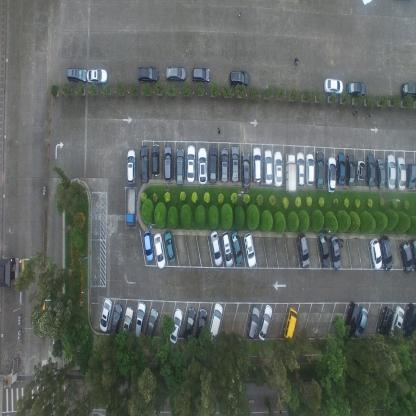car: (208, 302, 224, 345), (378, 306, 396, 342), (345, 302, 362, 340), (258, 304, 274, 341), (390, 306, 406, 342), (144, 307, 159, 344), (283, 306, 298, 341), (230, 230, 244, 267), (169, 308, 183, 345), (194, 308, 208, 345), (246, 306, 261, 340), (133, 300, 145, 342), (98, 298, 112, 334), (402, 301, 416, 337), (210, 230, 223, 268), (109, 302, 122, 340), (153, 232, 166, 270), (379, 235, 393, 270), (120, 306, 133, 343), (285, 152, 297, 192), (355, 307, 369, 341), (400, 240, 414, 274), (298, 233, 311, 269), (183, 308, 196, 344), (221, 230, 233, 268), (318, 230, 330, 268), (244, 232, 256, 268), (329, 234, 341, 270), (164, 229, 176, 264), (252, 146, 263, 184), (162, 144, 173, 182), (369, 237, 382, 269), (136, 65, 159, 83), (316, 149, 326, 190), (208, 143, 218, 184), (197, 146, 207, 186), (174, 146, 184, 186), (140, 144, 150, 184), (126, 187, 136, 227), (186, 144, 196, 184), (86, 66, 108, 84), (126, 147, 137, 183), (143, 230, 155, 263), (264, 147, 274, 186), (274, 149, 284, 187), (387, 152, 397, 190), (346, 79, 366, 98), (296, 151, 306, 189), (230, 145, 240, 182), (326, 155, 336, 192), (229, 68, 249, 86), (396, 156, 406, 192), (166, 65, 186, 83), (191, 66, 211, 84), (401, 80, 416, 104), (66, 67, 87, 84), (366, 152, 376, 187), (219, 145, 228, 183), (324, 76, 343, 94), (336, 151, 346, 185), (305, 152, 315, 185), (376, 157, 386, 190), (242, 150, 250, 190), (347, 152, 356, 187), (406, 161, 416, 190), (152, 142, 160, 175), (357, 159, 366, 181), (410, 237, 416, 270)
